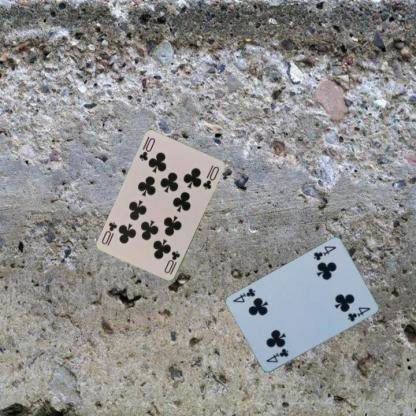10c: (136, 136, 157, 162), (162, 249, 181, 276)
4c: (263, 346, 289, 365), (311, 243, 337, 262)
